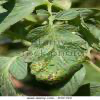Tomato Septoria leaf spot: (25, 24, 90, 86)
